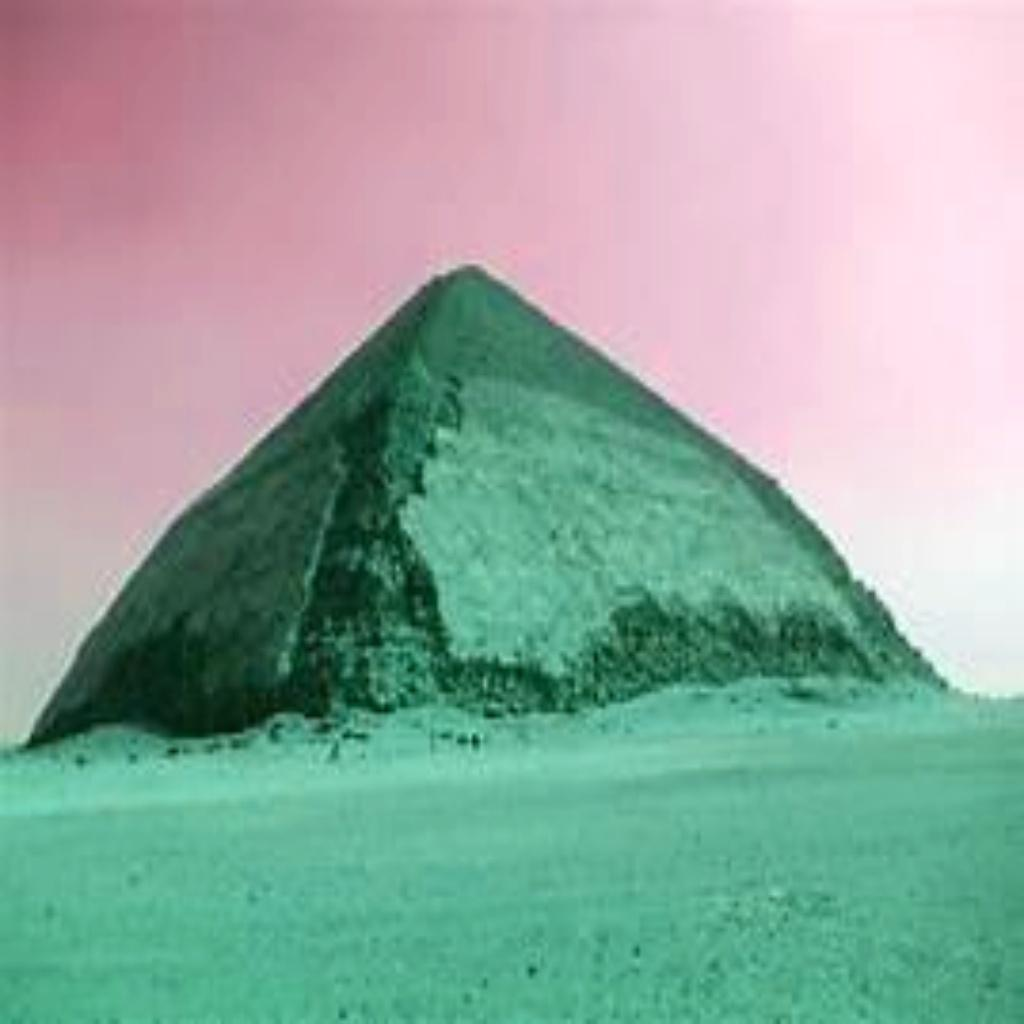Bent Pyramid of King Sneferu: (19, 250, 952, 749)
